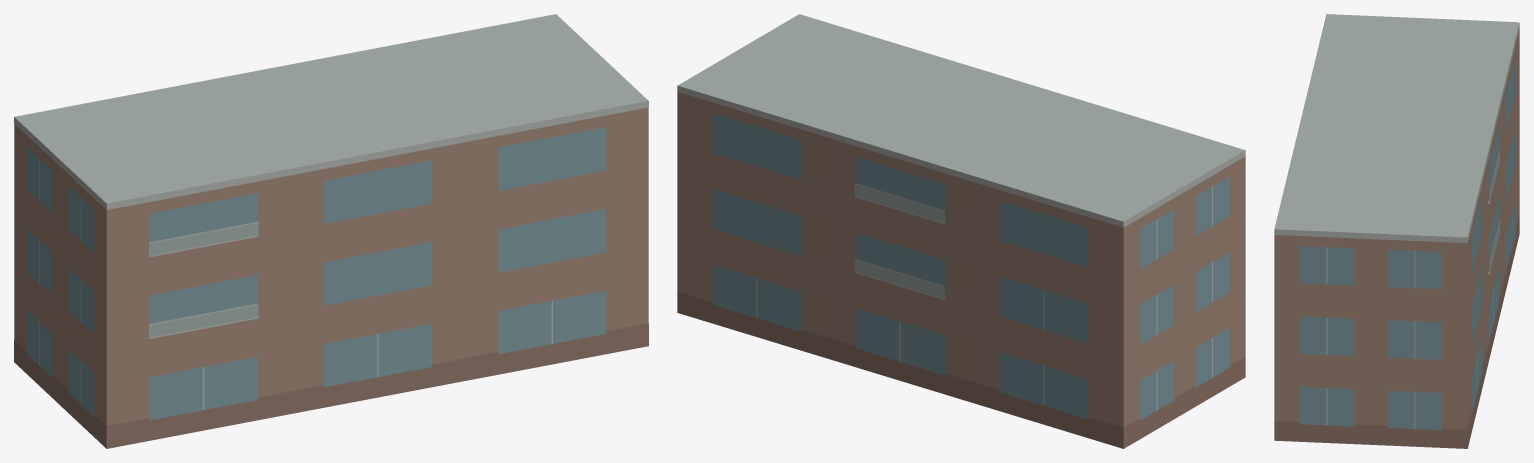
The model's file is survey-upis-33033331.glb.
3 views of the same model, side by side, from view 1: azimuth 30°, elevation 25°; view 2: azimuth 150°, elevation 25°; view 3: azimuth 270°, elevation 25° (orthographic). The views are drawn at different scales.
Parts seen in each view (by area): view 1: survey-upis-33033331.tmp; view 2: survey-upis-33033331.tmp; view 3: survey-upis-33033331.tmp.
Boxes of the visible parts, x1,y1,x2,y2 form: survey-upis-33033331.tmp: (14,14,648,448); survey-upis-33033331.tmp: (677,14,1245,448); survey-upis-33033331.tmp: (1274,14,1519,448).
Size of the model in its own units: 20.76 by 9.15 by 9.64.
